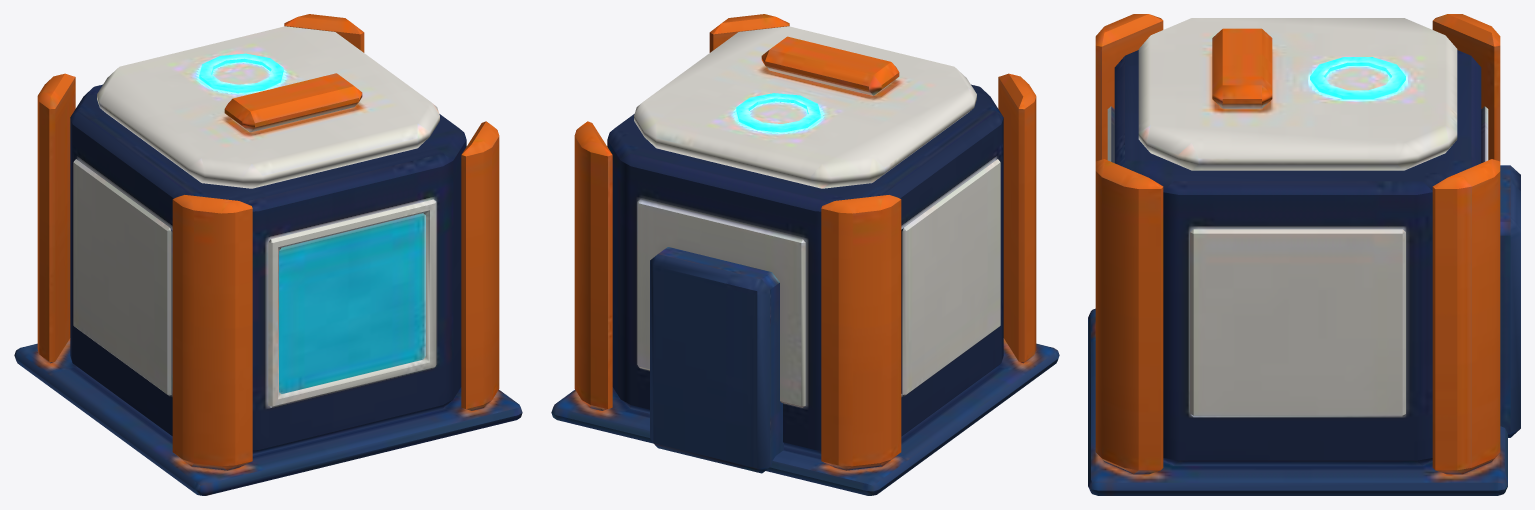
The model's file is R4X_Battery_LOD1.glb.
The picture shows the model from 3 angles, left to right: view 1: azimuth 30°, elevation 25°; view 2: azimuth 150°, elevation 25°; view 3: azimuth 270°, elevation 25°; orthographic projection. The views are drawn at different scales.
Parts seen in each view (by area): view 1: R4X_Battery_LOD1; view 2: R4X_Battery_LOD1; view 3: R4X_Battery_LOD1.
Boxes of the visible parts, x1,y1,x2,y2 form: R4X_Battery_LOD1: (14,14,522,495); R4X_Battery_LOD1: (551,14,1059,495); R4X_Battery_LOD1: (1088,14,1520,495).
Size of the model in its own units: 0.49 by 0.456 by 0.505.
Materials: 4 (4 with a texture image).
